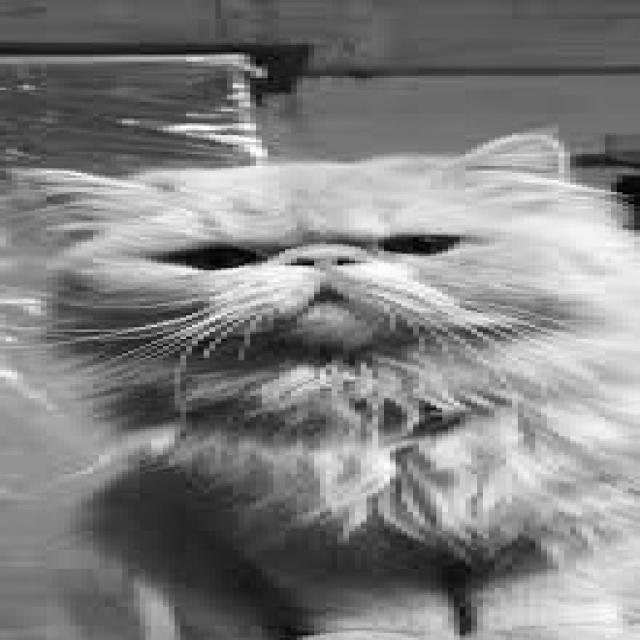iran: (76, 199, 614, 353)
